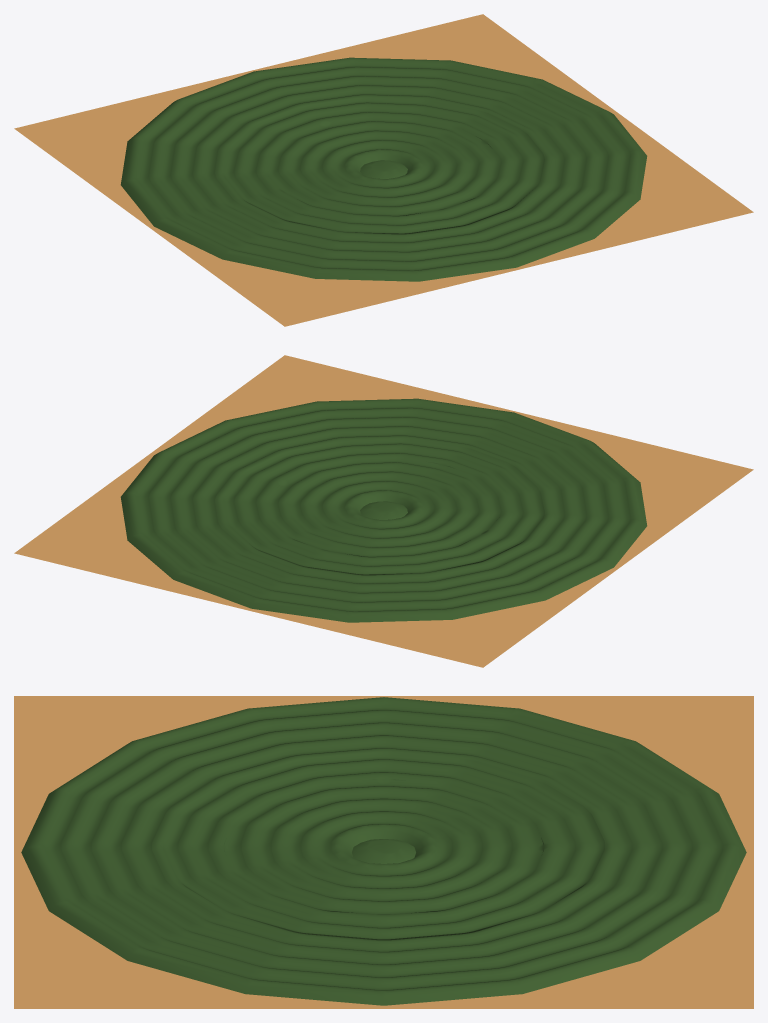
File: AgricultureIntensive.fbx
3 renders of one model, top to bottom at view 1: azimuth 30°, elevation 25°; view 2: azimuth 150°, elevation 25°; view 3: azimuth 270°, elevation 25°, orthographic. The views are drawn at different scales.
Parts seen in each view (by area): view 1: AgricultureIntensive; view 2: AgricultureIntensive; view 3: AgricultureIntensive.
Boxes of the visible parts, x1,y1,x2,y2 form: AgricultureIntensive: (14, 14, 753, 326); AgricultureIntensive: (14, 355, 753, 667); AgricultureIntensive: (14, 696, 753, 1008).
Size of the model in its own units: 1000 by 11.48 by 1000.
